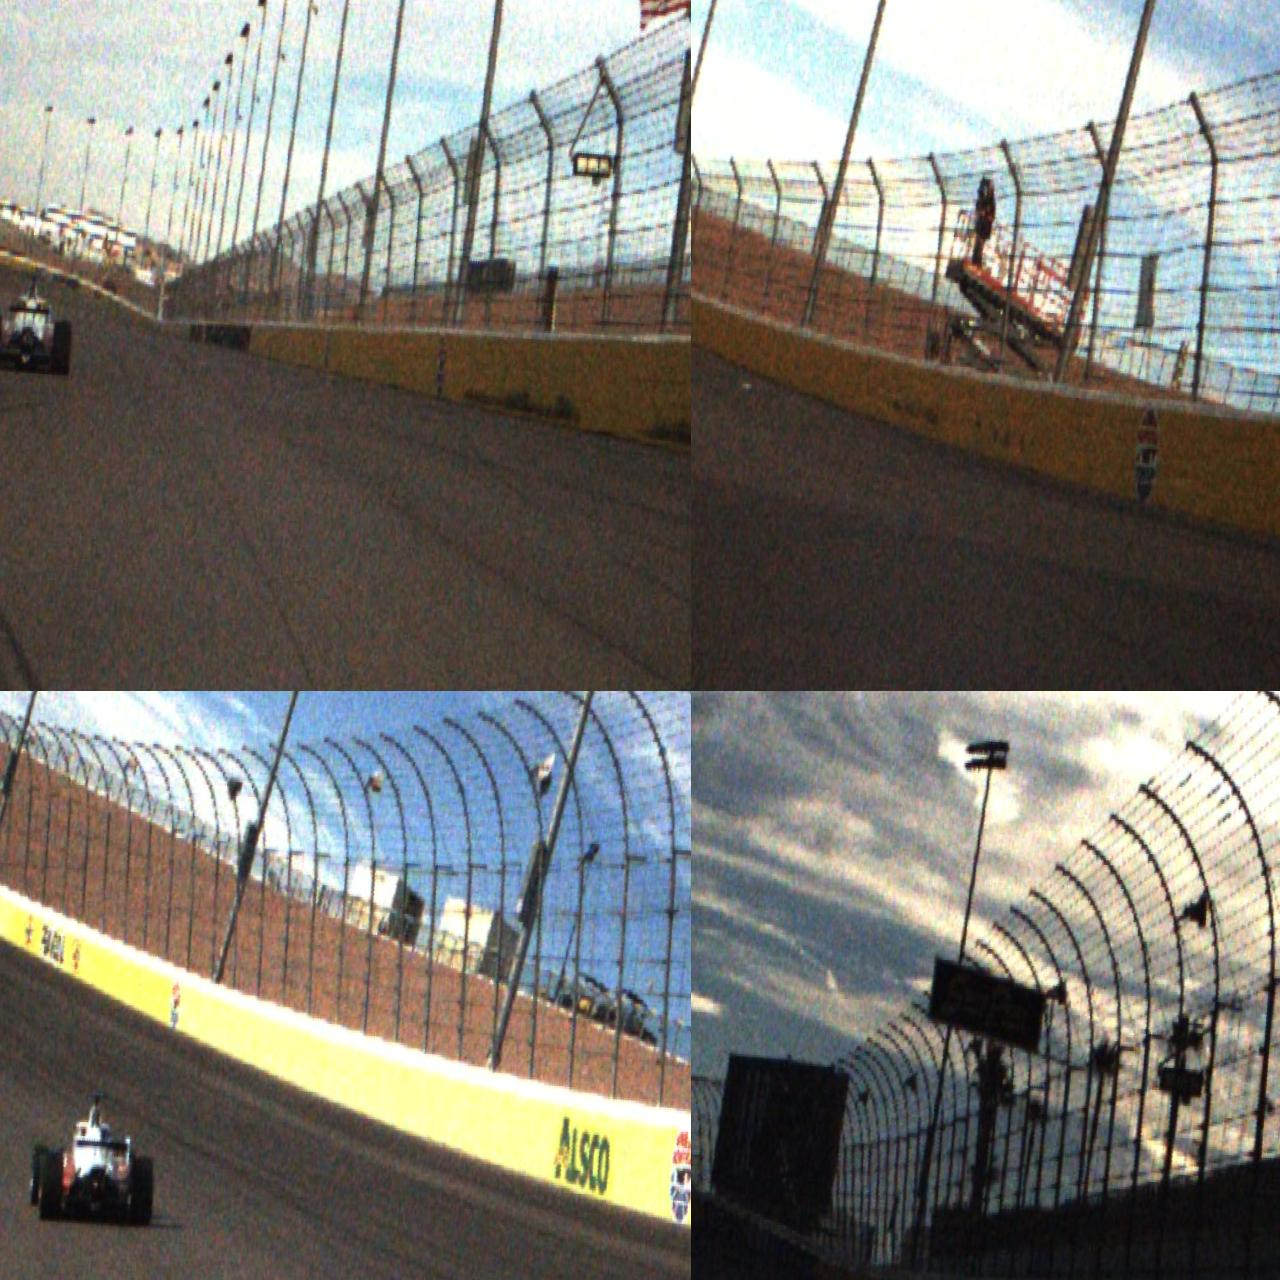AV: (27, 1087, 159, 1228), (0, 271, 76, 377)
Wheel: (38, 1150, 63, 1223), (130, 1157, 155, 1228), (50, 320, 74, 376), (28, 1143, 48, 1206)
